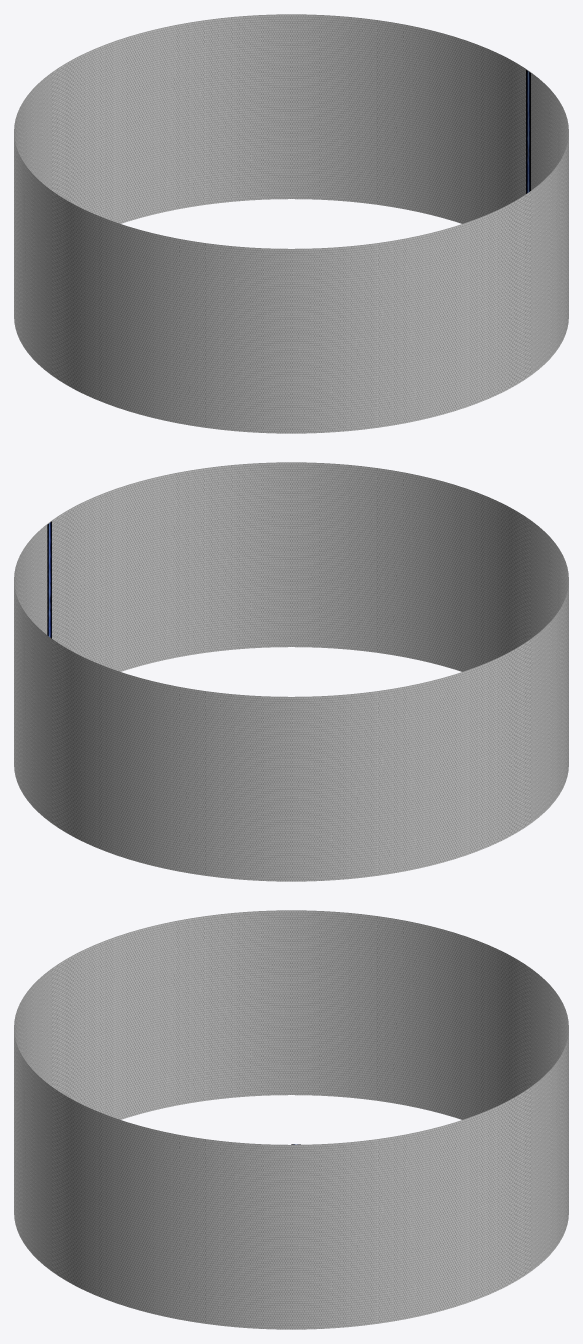
Rendered from wall.fbx.
The picture shows the model from 3 angles, top to bottom: view 1: azimuth 30°, elevation 25°; view 2: azimuth 150°, elevation 25°; view 3: azimuth 270°, elevation 25°; orthographic projection.
Parts seen in each view (by area): view 1: big, laser; view 2: big, laser; view 3: big.
Part boxes in pixels (x1,y1,x2,y2): big: (14,14,568,433); laser: (526,70,530,193); big: (14,462,568,881); laser: (47,521,51,638); big: (14,910,568,1329).
Size of the model in its own units: 544 by 200 by 544.
2 materials, 2 textured.
